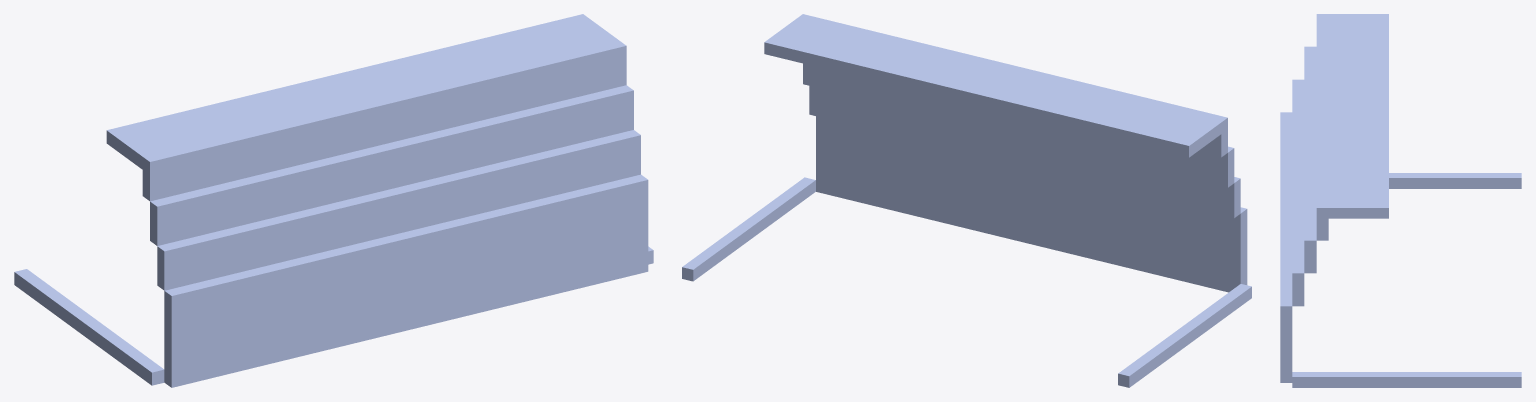
The model's file is food-counter-glass.obj.
3 views of the same model, side by side, from view 1: azimuth 30°, elevation 25°; view 2: azimuth 150°, elevation 25°; view 3: azimuth 270°, elevation 25° (orthographic). The views are drawn at different scales.
Size of the model in its own units: 4 by 1.6 by 2.
1 material, 1 textured.
